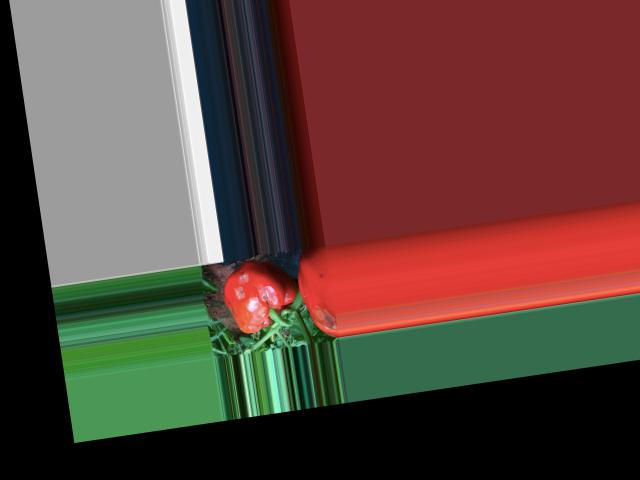bell_pepper: (222, 250, 302, 342)
